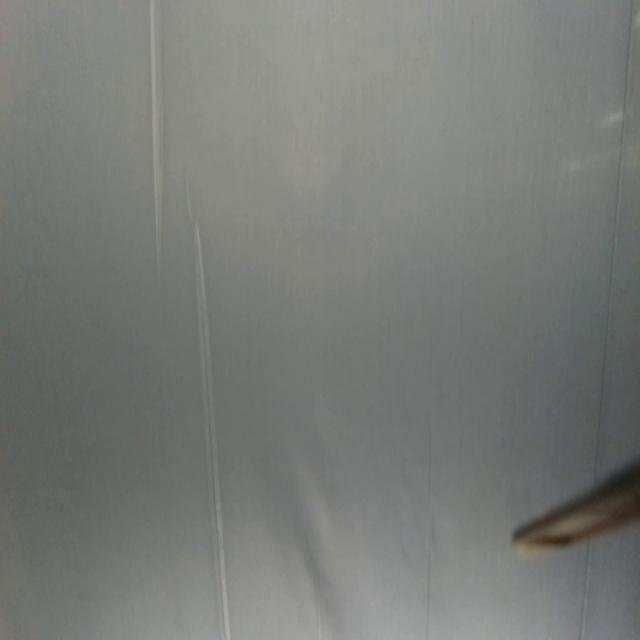crease: (182, 180, 235, 640), (592, 6, 636, 467), (150, 0, 167, 270), (574, 544, 594, 639)
